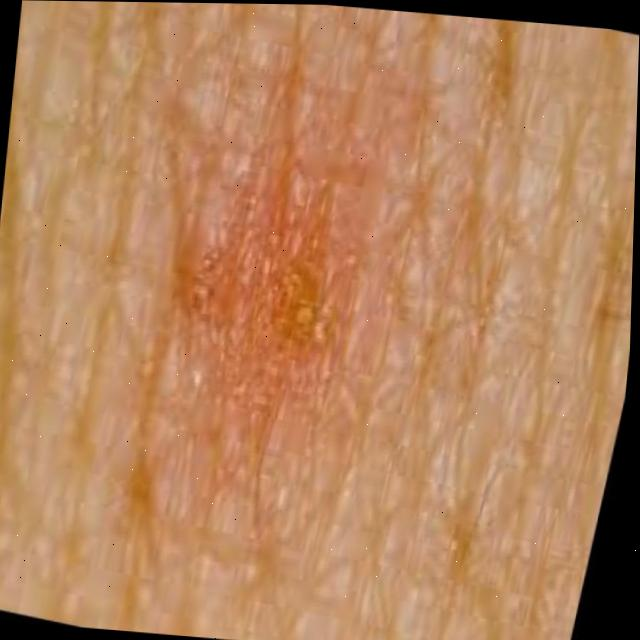Eczema: (193, 172, 343, 371)
